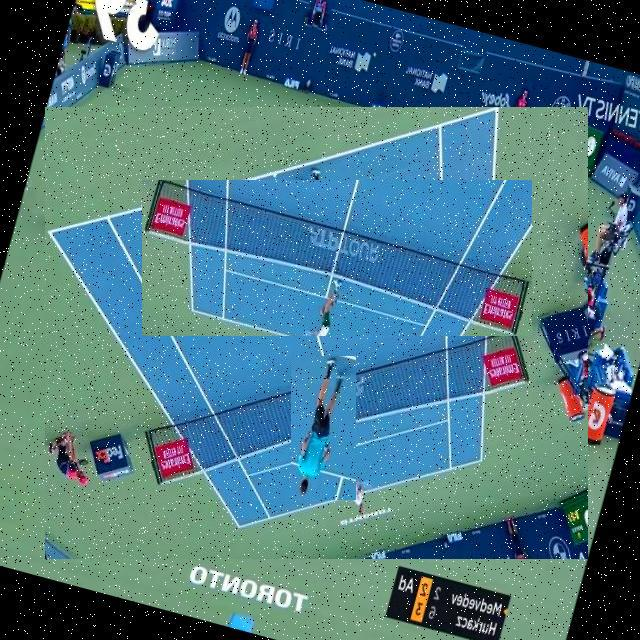court: (45, 107, 588, 559)
net: (142, 180, 532, 336)
player: (291, 356, 356, 501)
